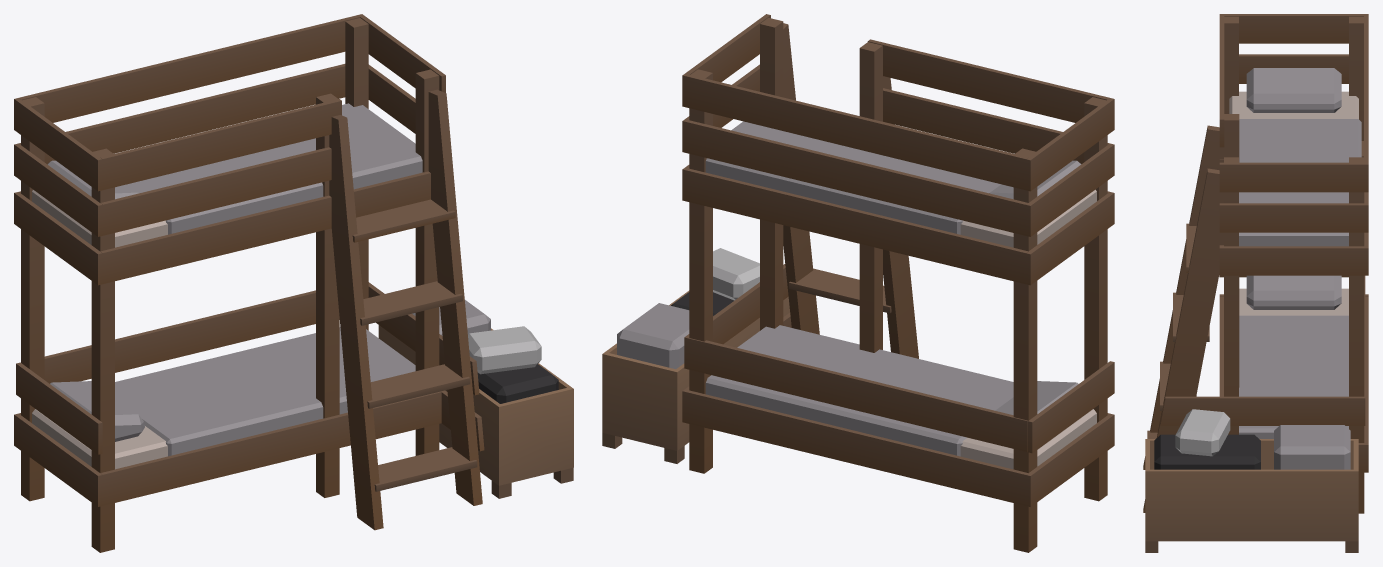
The model's file is bunkbedwhite.glb.
3 views of the same model, side by side, from view 1: azimuth 30°, elevation 25°; view 2: azimuth 150°, elevation 25°; view 3: azimuth 270°, elevation 25° (orthographic). The views are drawn at different scales.
Parts seen in each view (by area): view 1: Cube.004; view 2: Cube.004; view 3: Cube.004.
Boxes of the visible parts, x1,y1,x2,y2 form: Cube.004: (14, 14, 573, 552); Cube.004: (602, 14, 1114, 552); Cube.004: (1143, 14, 1368, 552).
Size of the model in its own units: 2.92 by 2.54 by 1.48.
